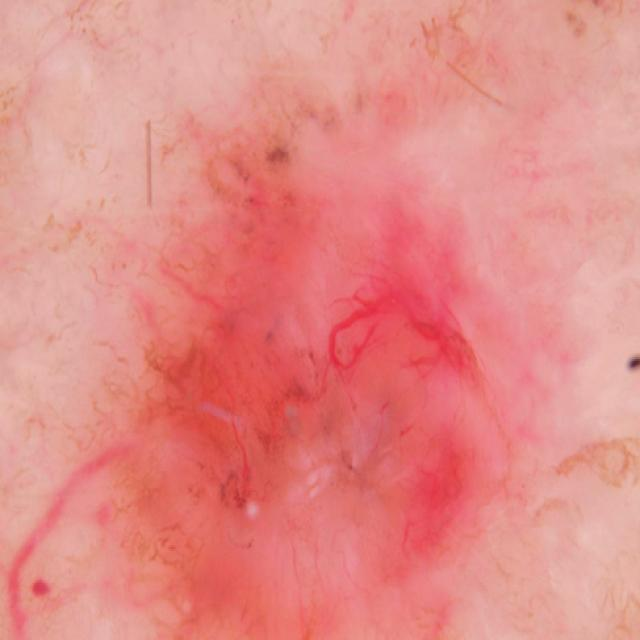Carcinoma: (0, 123, 640, 640)
